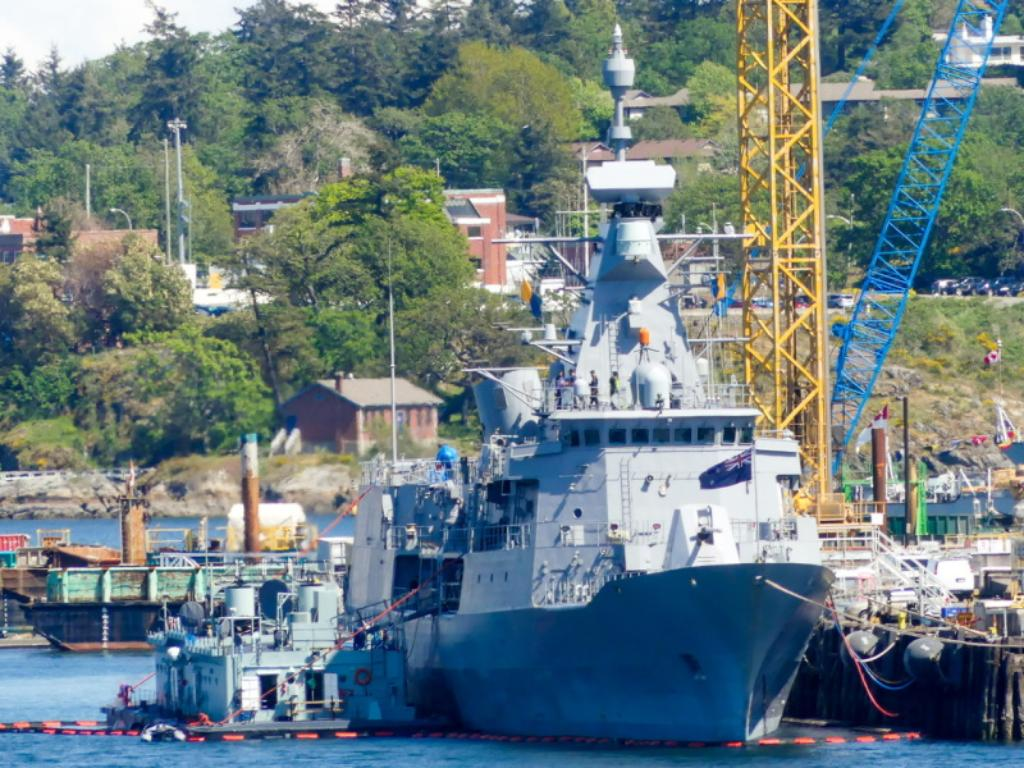Warship: (351, 25, 841, 750)
